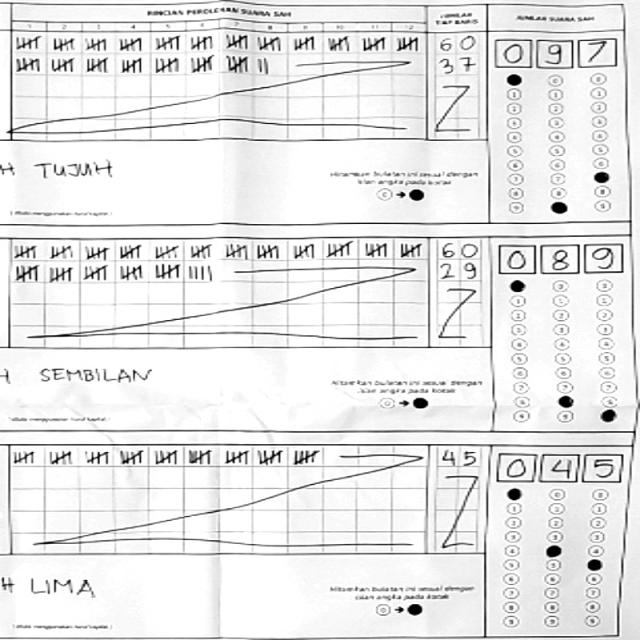Suara: (488, 33, 621, 71), (491, 448, 624, 486), (494, 240, 626, 278)
